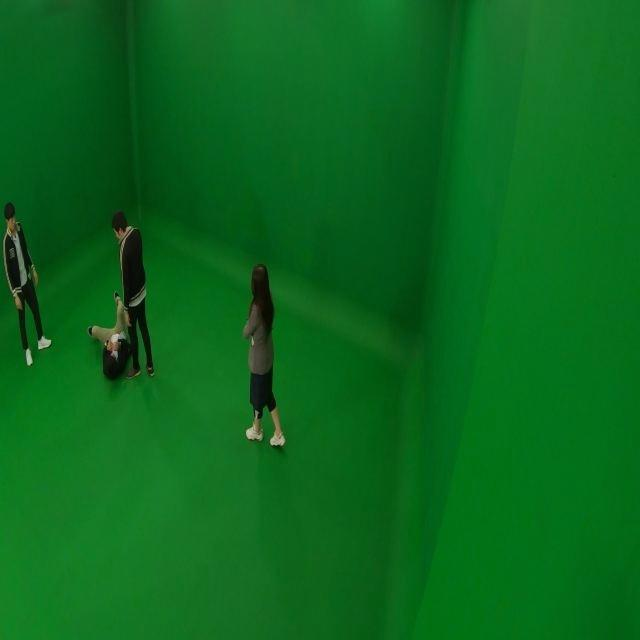fight: (83, 209, 156, 382)
non-fight: (239, 264, 286, 447), (3, 201, 50, 365)
